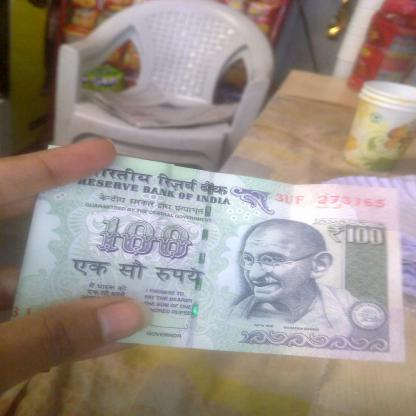Old100Front: (9, 144, 407, 363)
